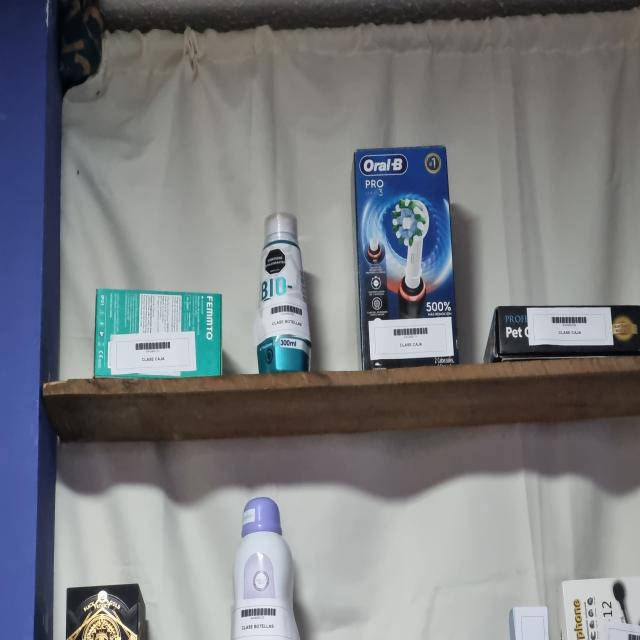botella: (231, 497, 299, 640), (254, 213, 311, 373)
caja: (354, 146, 459, 370), (94, 289, 221, 378), (484, 305, 640, 362), (562, 577, 640, 640), (66, 584, 149, 640), (509, 607, 549, 640)
